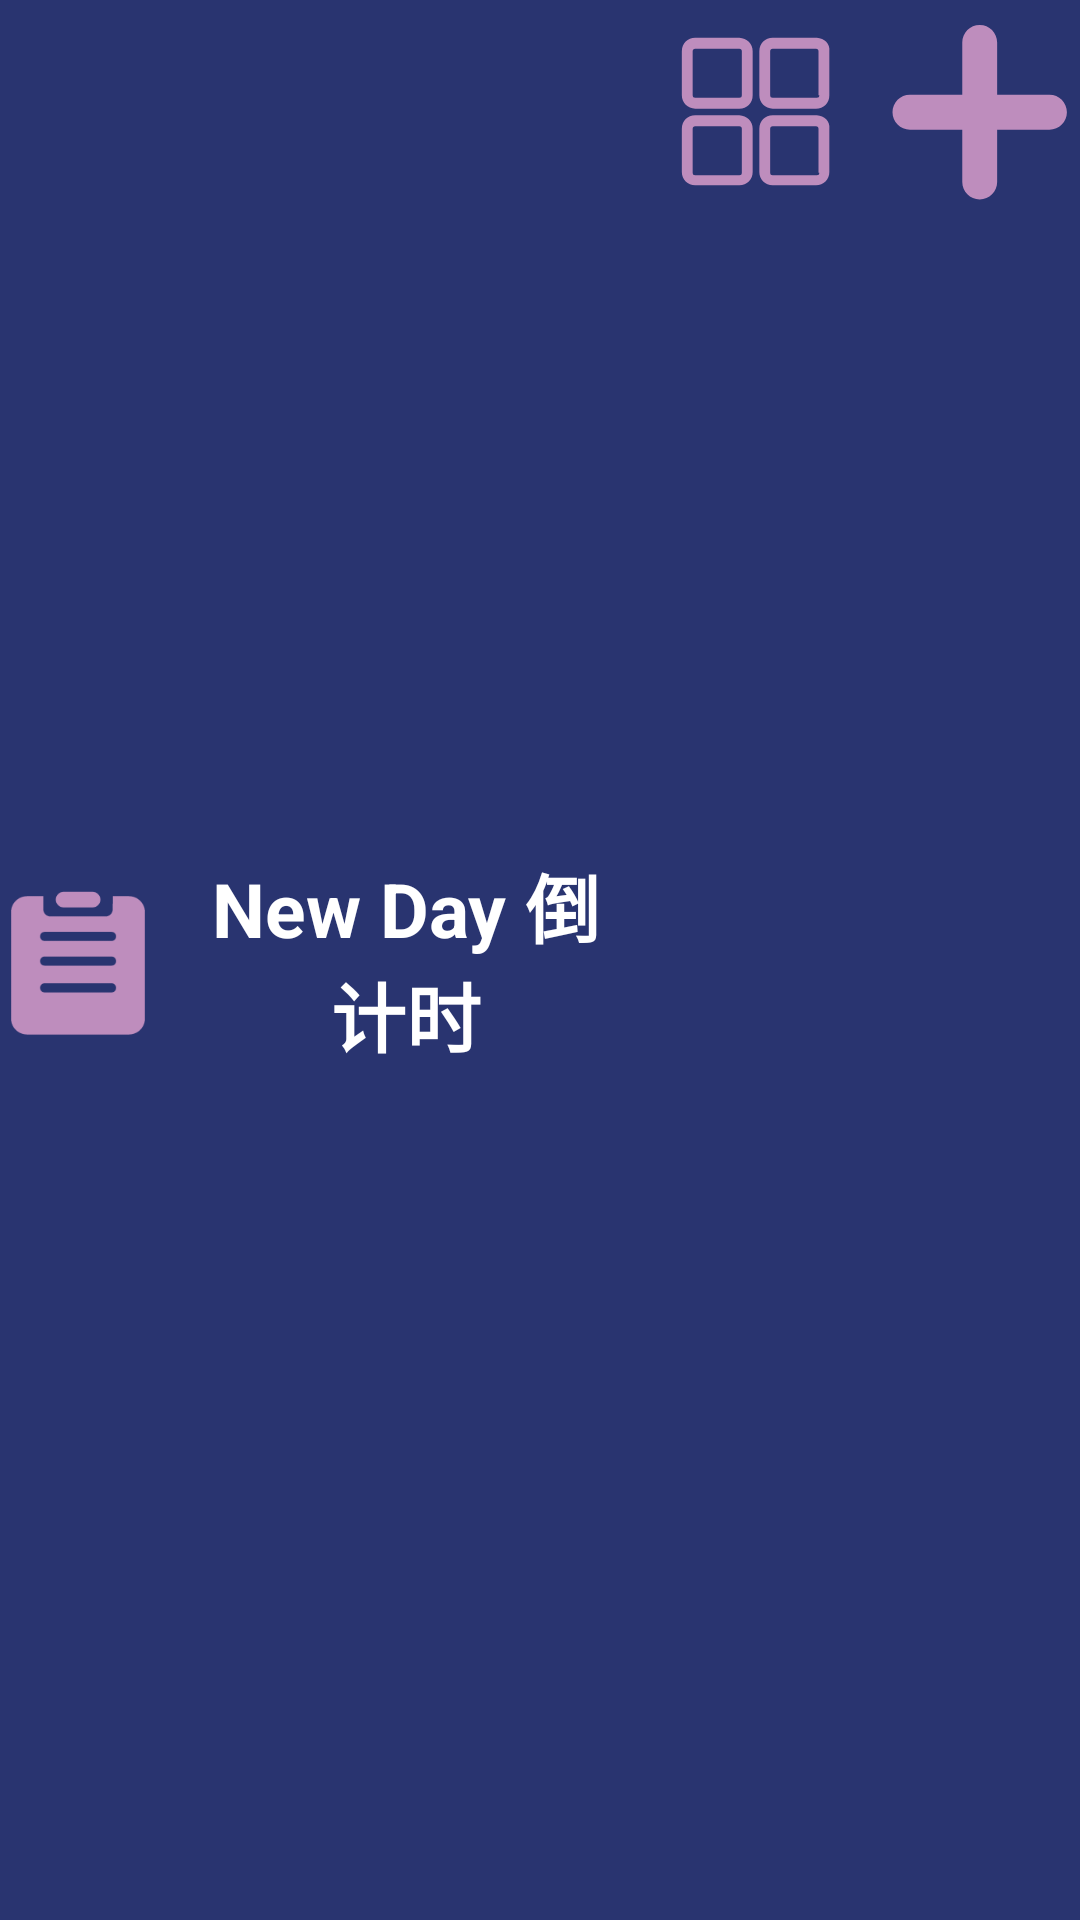

Named icons in this screenshot (1080w x 1920h) and their centers, [x,y]:
adddate: [979,112]
fangge: [755,111]
